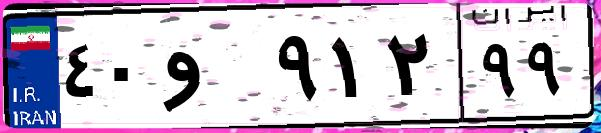0: (110, 28, 158, 98)
1: (330, 28, 385, 110)
2: (385, 28, 445, 110)
4: (57, 26, 110, 100)
9: (270, 28, 330, 110), (475, 38, 525, 113), (525, 38, 570, 115)
و: (158, 20, 270, 120)
